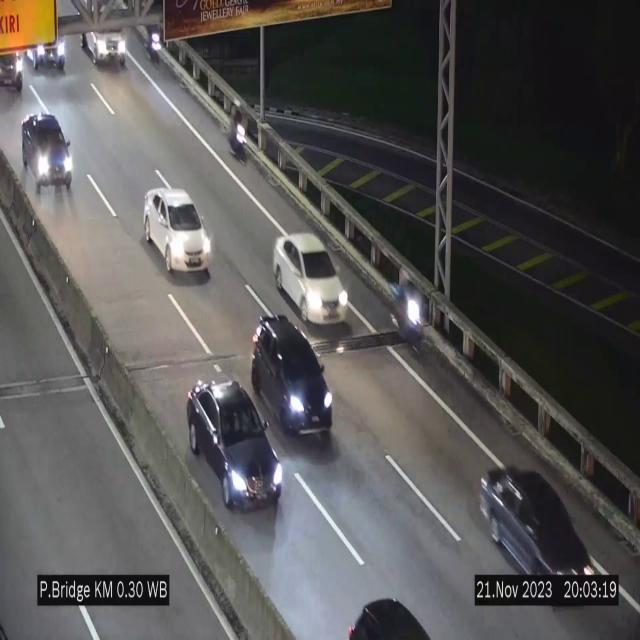Car: (479, 462, 598, 574), (186, 380, 282, 508), (249, 311, 335, 440), (272, 233, 350, 325), (144, 187, 212, 273), (20, 110, 76, 194), (81, 9, 131, 73), (27, 29, 73, 72), (0, 31, 23, 95)
Motorcycle: (391, 273, 424, 349), (138, 10, 170, 71), (228, 96, 250, 166)
